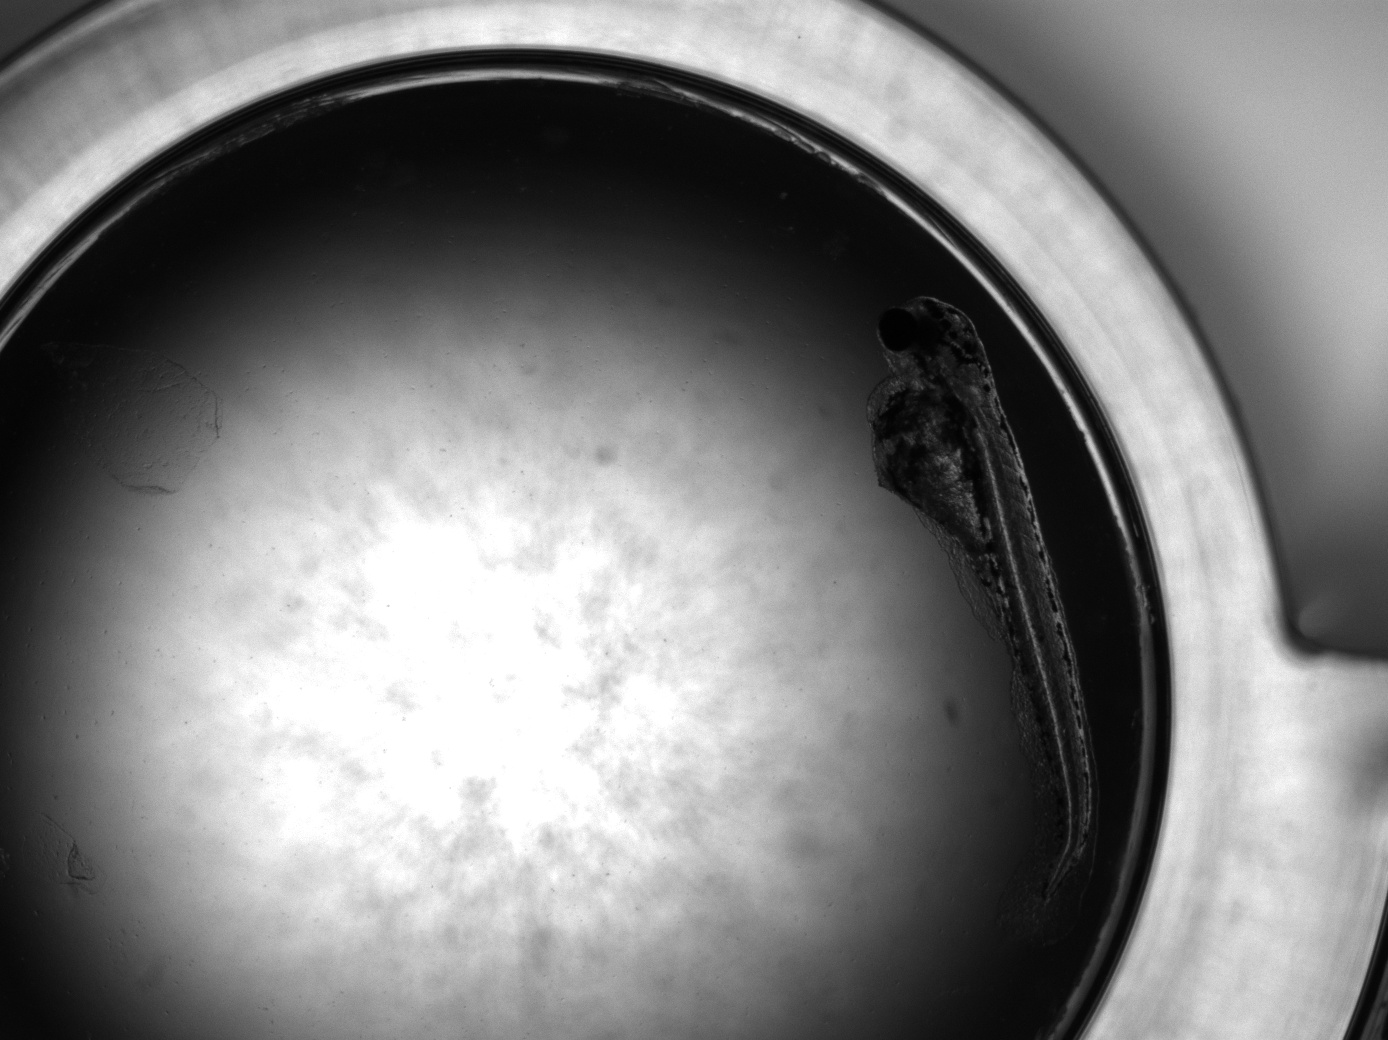embryo: (867, 296, 1096, 907)
eye: (877, 308, 917, 353)
yolksac: (868, 376, 1018, 626)
